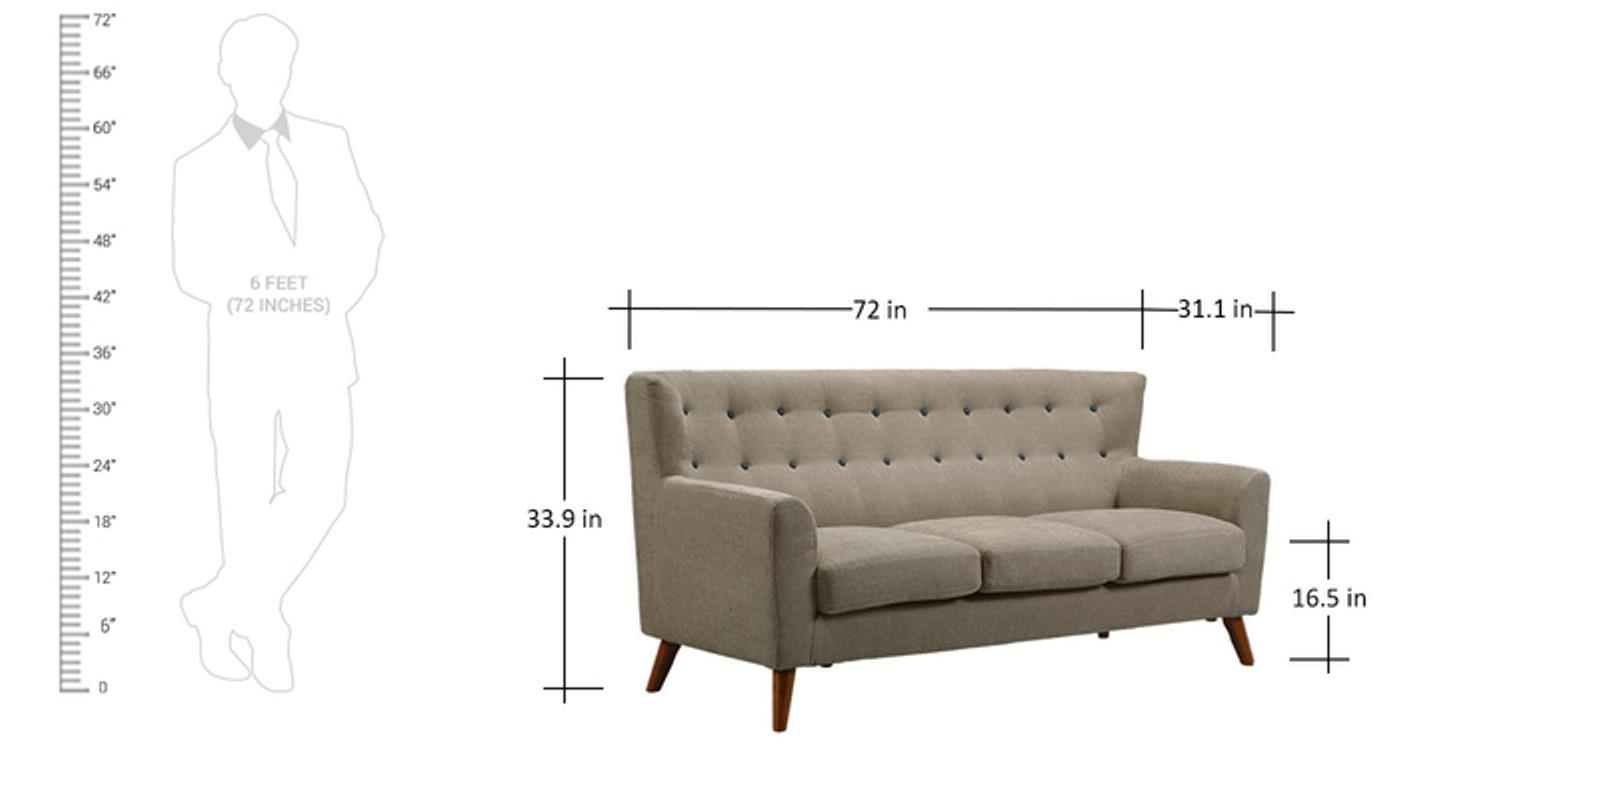Havana Three Seater Sofa in Ecru Colour by CasaCraft: (614, 358, 1269, 721)
